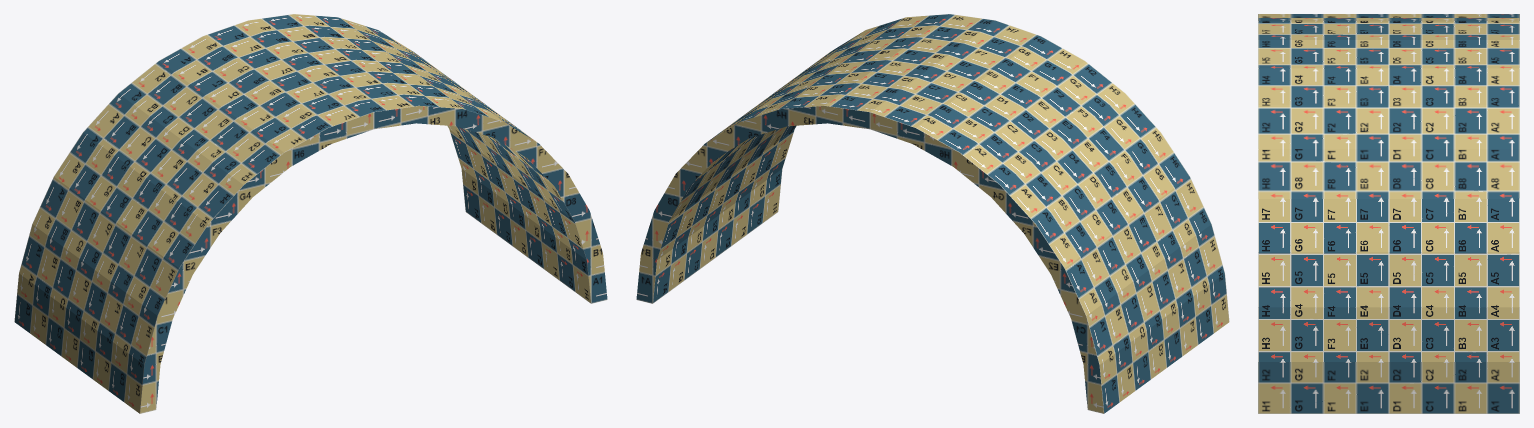
Rendered from CEILING_Vaulted.fbx.
3 views of the same model, side by side, from view 1: azimuth 30°, elevation 25°; view 2: azimuth 150°, elevation 25°; view 3: azimuth 270°, elevation 25° (orthographic). The views are drawn at different scales.
Visible parts, largest first — view 1: CEILING_Vaulted; view 2: CEILING_Vaulted; view 3: CEILING_Vaulted.
Boxes of the visible parts, box(x1,y1,x2,y2) form: CEILING_Vaulted: box(14, 14, 607, 413); CEILING_Vaulted: box(636, 14, 1229, 413); CEILING_Vaulted: box(1258, 14, 1519, 413).
Bounding box in the file's own units: 430 × 215 × 200.
Materials: 1 (1 with a texture image).
